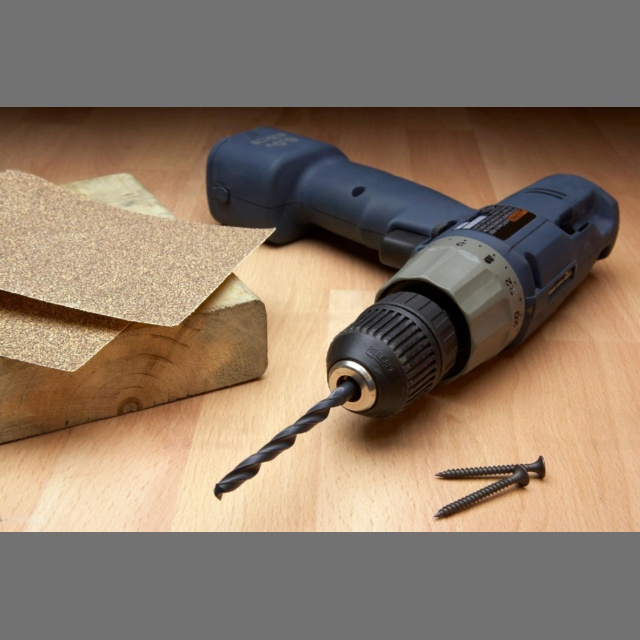drill: (210, 122, 630, 509)
